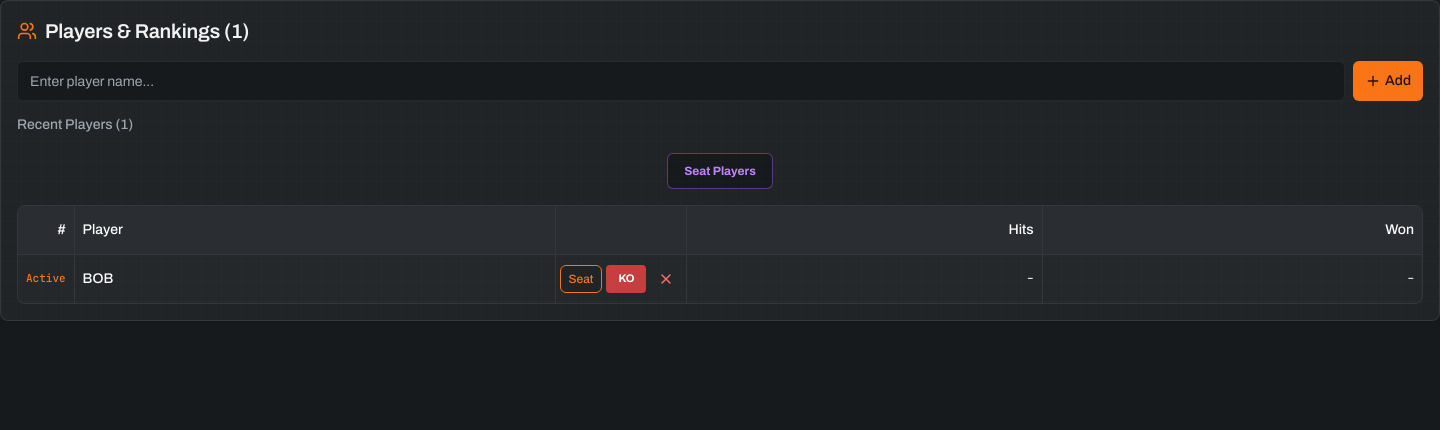
Test: the names Add Player offers › a standalone game keeps the account's Recent Players
Click the button "Recent Players (1)".
click(75, 125)  # box top-left (17, 113), bottom-right (133, 137)
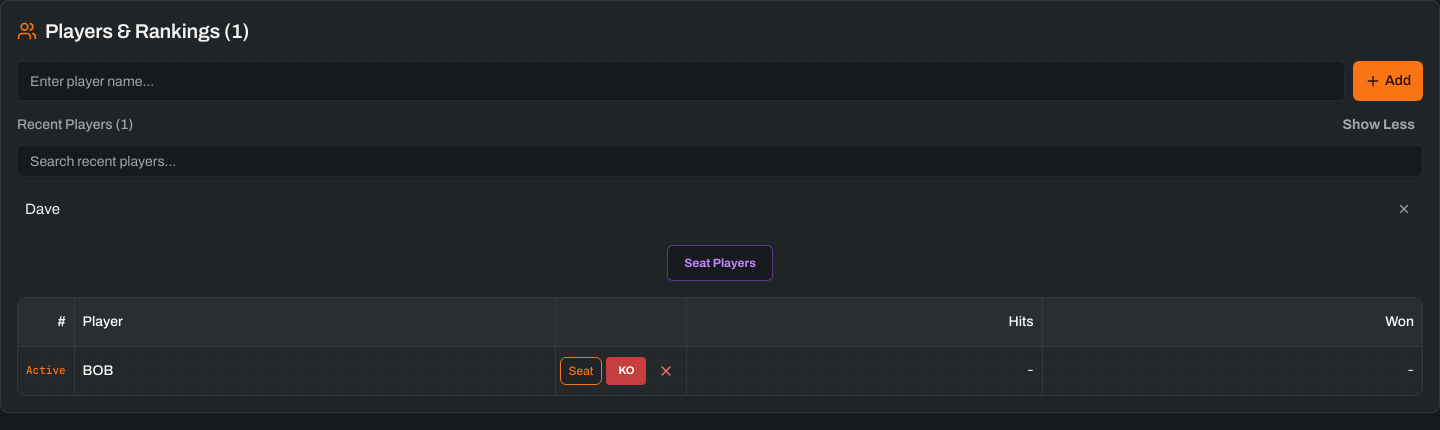
Now the button "Dave" is shown, box top-left (25, 197), bottom-right (1385, 221)
Now the button named "Remove Dave from recent players" is shown, box top-left (1393, 198), bottom-right (1415, 220)
